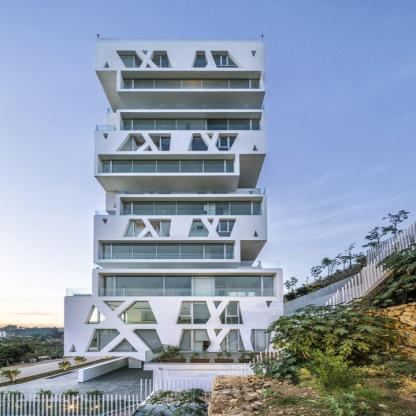Balcony: (146, 346, 287, 363), (107, 103, 265, 113), (94, 261, 280, 268), (118, 188, 266, 194), (121, 125, 262, 131), (102, 38, 259, 41), (66, 288, 92, 297), (95, 125, 115, 131), (135, 232, 159, 237), (133, 147, 159, 151), (95, 210, 115, 215)
Building Outline: (63, 33, 288, 392)
Facade: (63, 33, 289, 392)
Floor Slab: (65, 324, 283, 328), (64, 353, 285, 356), (65, 297, 283, 300), (93, 269, 283, 272), (95, 68, 265, 71), (117, 109, 265, 112), (94, 238, 267, 240), (95, 131, 265, 133), (117, 195, 266, 197), (117, 89, 265, 91), (94, 260, 241, 262), (94, 173, 240, 175)
Glass Wall: (104, 244, 233, 260), (124, 202, 261, 216), (103, 160, 233, 173), (106, 277, 192, 296), (124, 119, 259, 130), (124, 78, 258, 89), (215, 276, 274, 296)
Window: (119, 302, 158, 324), (177, 302, 210, 324), (134, 329, 165, 351), (219, 302, 243, 324), (99, 329, 120, 351), (221, 330, 244, 350), (251, 330, 270, 351), (213, 55, 239, 68), (189, 221, 209, 237), (195, 330, 210, 351), (216, 221, 235, 236), (177, 330, 191, 350), (189, 137, 208, 151), (112, 339, 136, 350), (119, 55, 133, 68), (194, 55, 207, 68), (161, 220, 171, 236), (121, 137, 132, 151), (106, 302, 124, 310), (125, 221, 133, 236), (162, 55, 171, 68), (162, 137, 170, 151), (100, 312, 106, 323), (214, 302, 221, 308), (214, 330, 221, 335), (209, 220, 213, 225), (105, 63, 109, 68), (266, 302, 270, 306), (252, 52, 256, 56), (254, 233, 257, 236), (253, 148, 257, 150), (104, 220, 106, 223), (104, 136, 107, 138)
